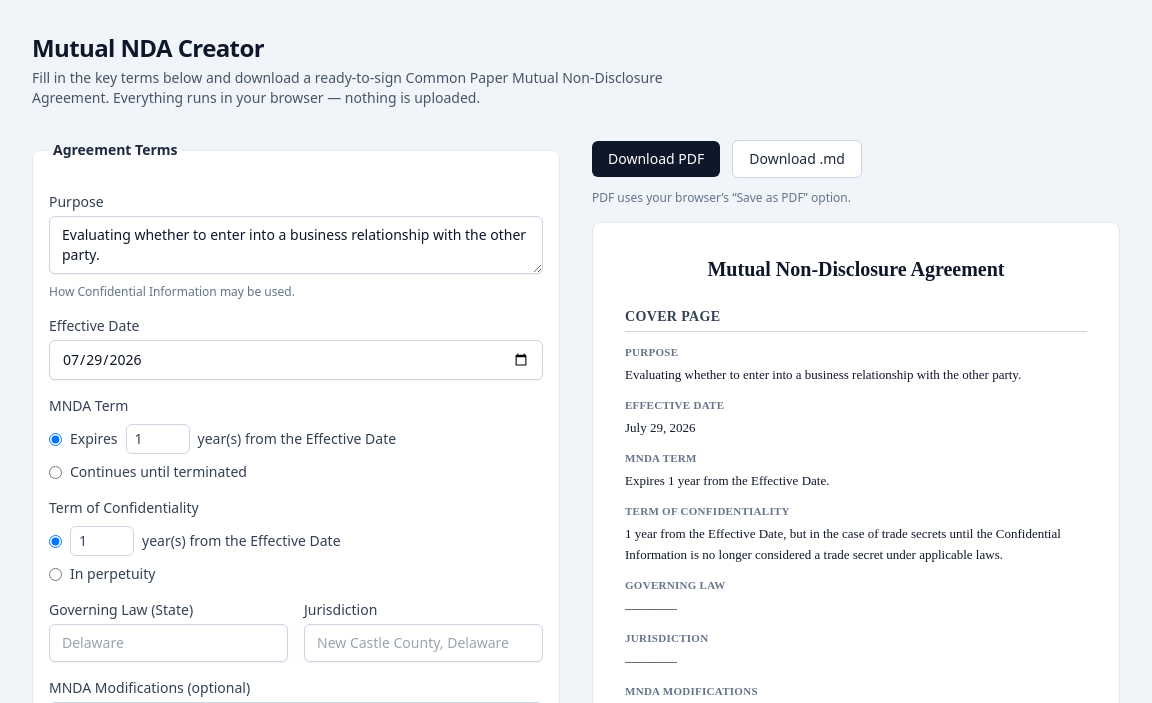
Test: Home page (form → live preview) › reflects a typed governing law in the preview's Section 9
In the field with placeholder "Delaware": (168, 643) [49,624,288,662], type "California"
(page scrolled)
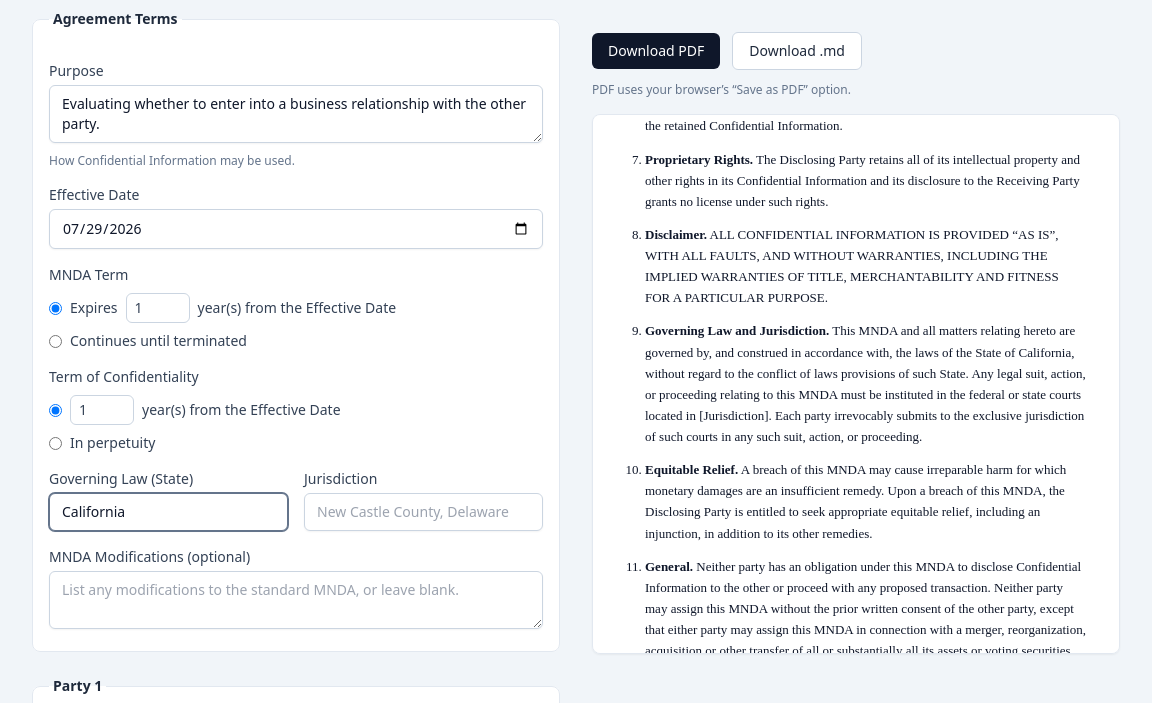
Expected: the list item "laws of the State of California" is shown, [645,323,1086,444]
